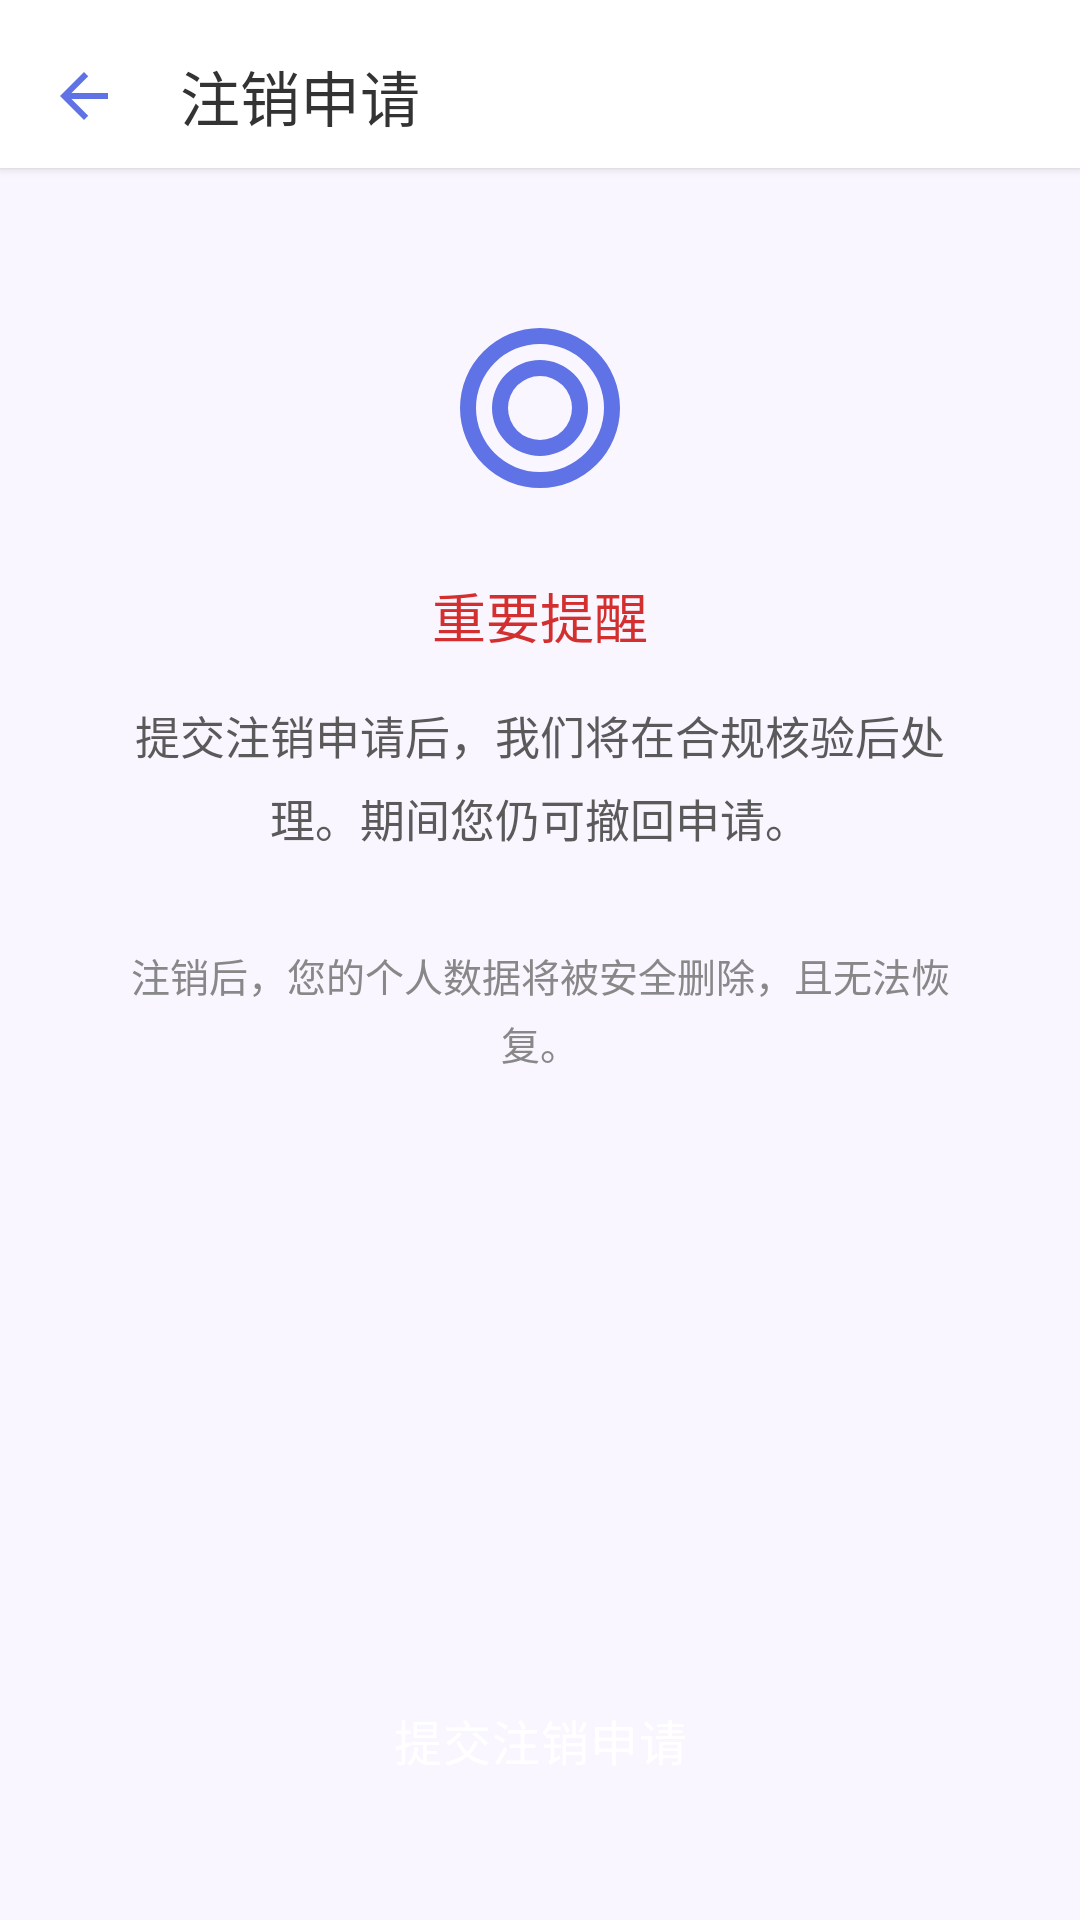

Where to tap for icons on this 1080x1920 app screen, as point (x, y):
返回: point (84, 96)
